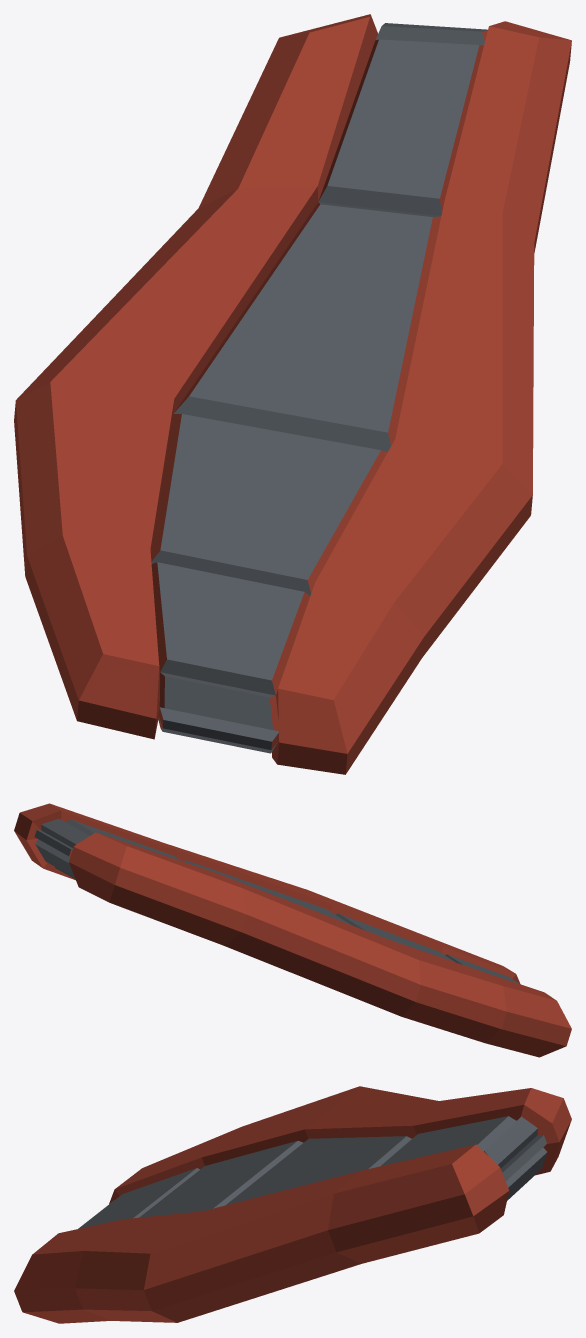
Rendered from Fighter_03_Left_Fin_Red.fbx.
The picture shows the model from 3 angles, top to bottom: view 1: azimuth 30°, elevation 25°; view 2: azimuth 150°, elevation 25°; view 3: azimuth 270°, elevation 25°; orthographic projection. The views are drawn at different scales.
Visible parts, largest first — view 1: Fighter_03_Left_Fin_Red; view 2: Fighter_03_Left_Fin_Red; view 3: Fighter_03_Left_Fin_Red.
Boxes of the visible parts, left/top/right/bottom form: Fighter_03_Left_Fin_Red: left=14, top=14, right=571, bottom=774; Fighter_03_Left_Fin_Red: left=14, top=803, right=571, bottom=1057; Fighter_03_Left_Fin_Red: left=14, top=1086, right=571, bottom=1323.
Size of the model in its own units: 393 by 239 by 347.
1 material, 1 textured.
